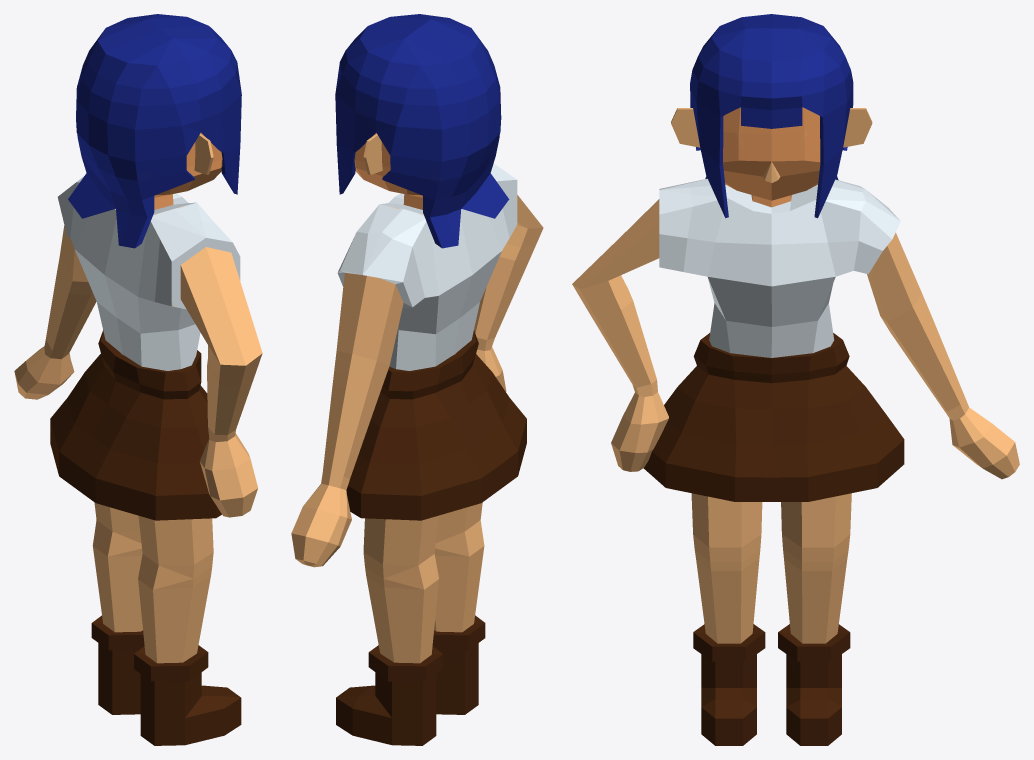
File: lowpolytest.fbx
3 views of the same model, side by side, from view 1: azimuth 30°, elevation 25°; view 2: azimuth 150°, elevation 25°; view 3: azimuth 270°, elevation 25° (orthographic).
Visible parts, largest first — view 1: Pony.002; view 2: Pony.002; view 3: Pony.002.
Boxes of the visible parts, box(x1,y1,x2,y2) form: Pony.002: box(14, 14, 262, 745); Pony.002: box(291, 14, 543, 745); Pony.002: box(572, 14, 1019, 745).
Size of the model in its own units: 85.16 by 373 by 219.
